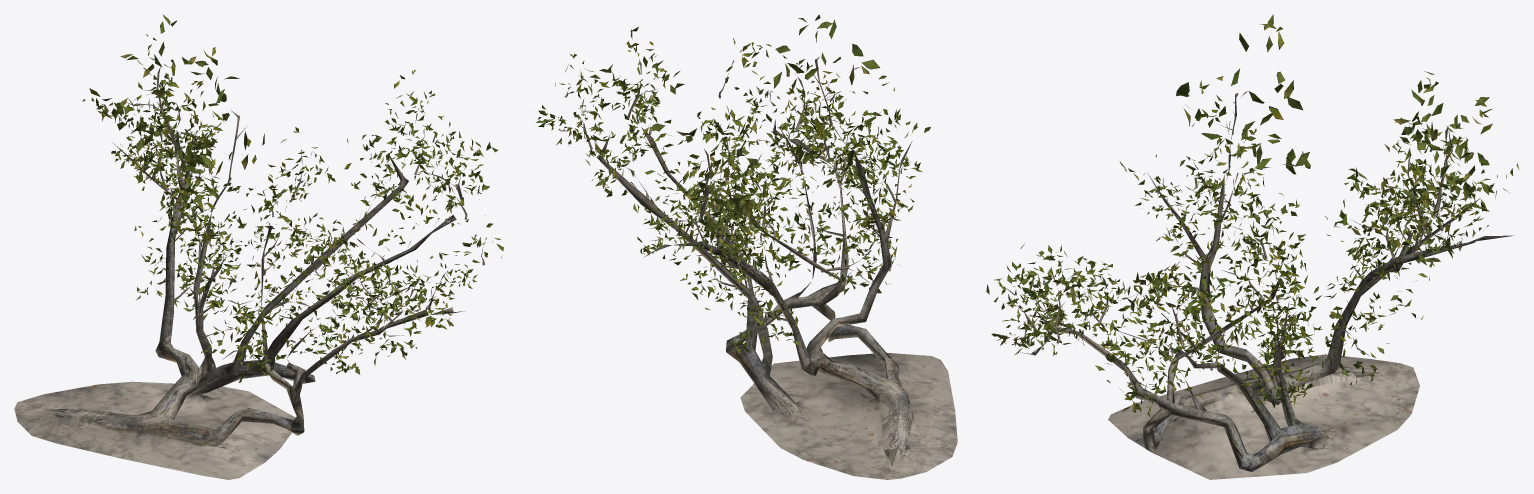
The model's file is island_tree_03_far.glb.
3 renders of one model, left to right at view 1: azimuth 30°, elevation 25°; view 2: azimuth 150°, elevation 25°; view 3: azimuth 270°, elevation 25°, orthographic. The views are drawn at different scales.
Parts seen in each view (by area): view 1: island_tree_03_LOD0; view 2: island_tree_03_LOD0; view 3: island_tree_03_LOD0.
Boxes of the visible parts, left/top/right/bottom form: island_tree_03_LOD0: left=14, top=15, right=503, bottom=479; island_tree_03_LOD0: left=536, top=14, right=957, bottom=479; island_tree_03_LOD0: left=986, top=14, right=1519, bottom=479.
Bounding box in the file's own units: 2.94 × 2.53 × 2.87.
Materials: 3 (3 with a texture image).
